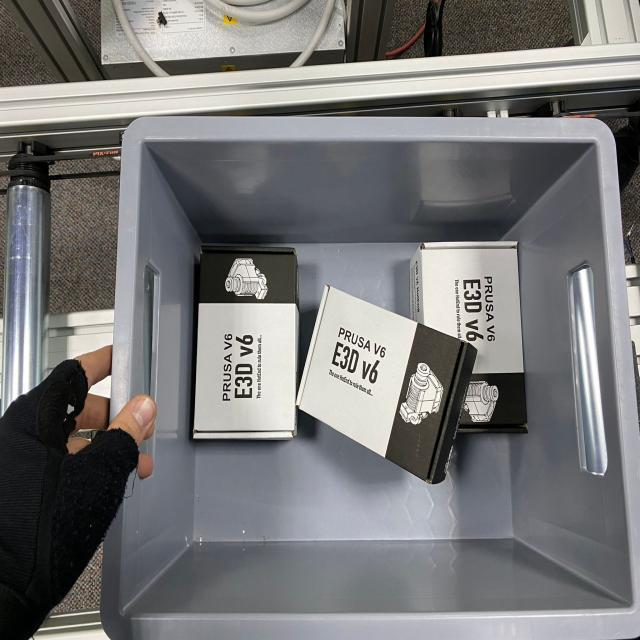box: (292, 282, 475, 490), (415, 242, 531, 440), (198, 242, 296, 441)
